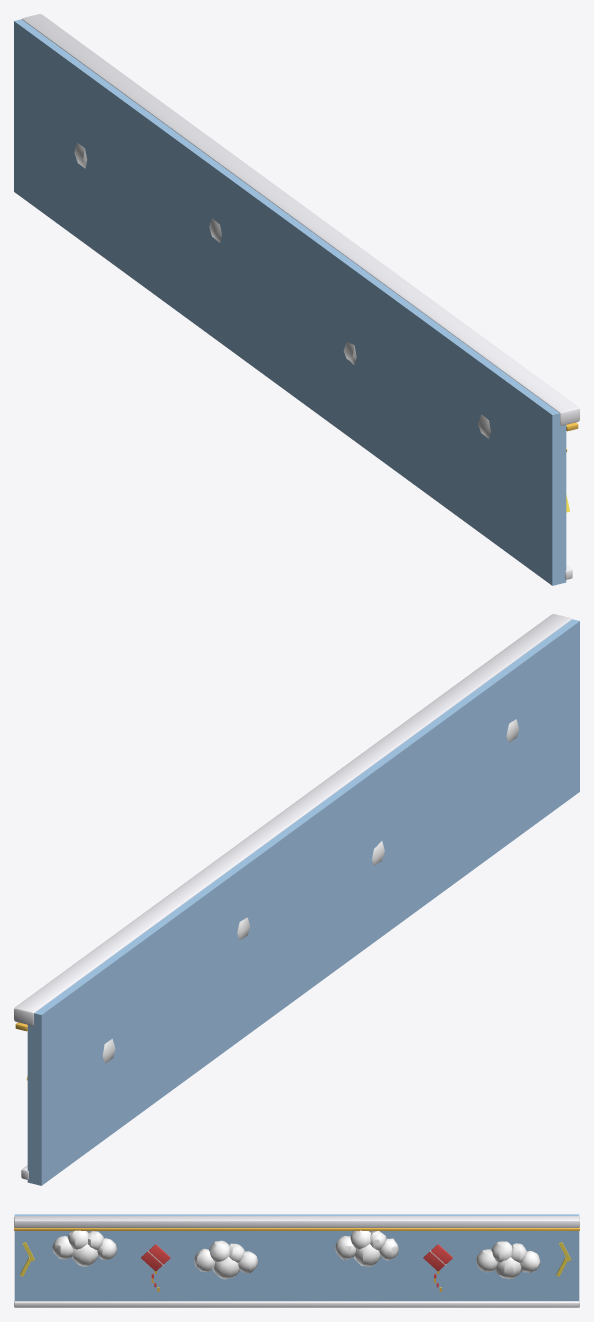
The model's file is WallSky.fbx.
The picture shows the model from 3 angles, top to bottom: view 1: azimuth 30°, elevation 25°; view 2: azimuth 150°, elevation 25°; view 3: azimuth 270°, elevation 25°; orthographic projection. The views are drawn at different scales.
Parts seen in each view (by area): view 1: WallSky; view 2: WallSky; view 3: WallSky.
Boxes of the visible parts, left/top/right/bottom form: WallSky: left=14, top=14, right=579, bottom=585; WallSky: left=14, top=614, right=579, bottom=1185; WallSky: left=14, top=1214, right=579, bottom=1307.
Bounding box in the file's own units: 401 × 1410 × 8020.
